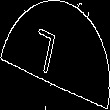L_S: (40, 26, 70, 84)
